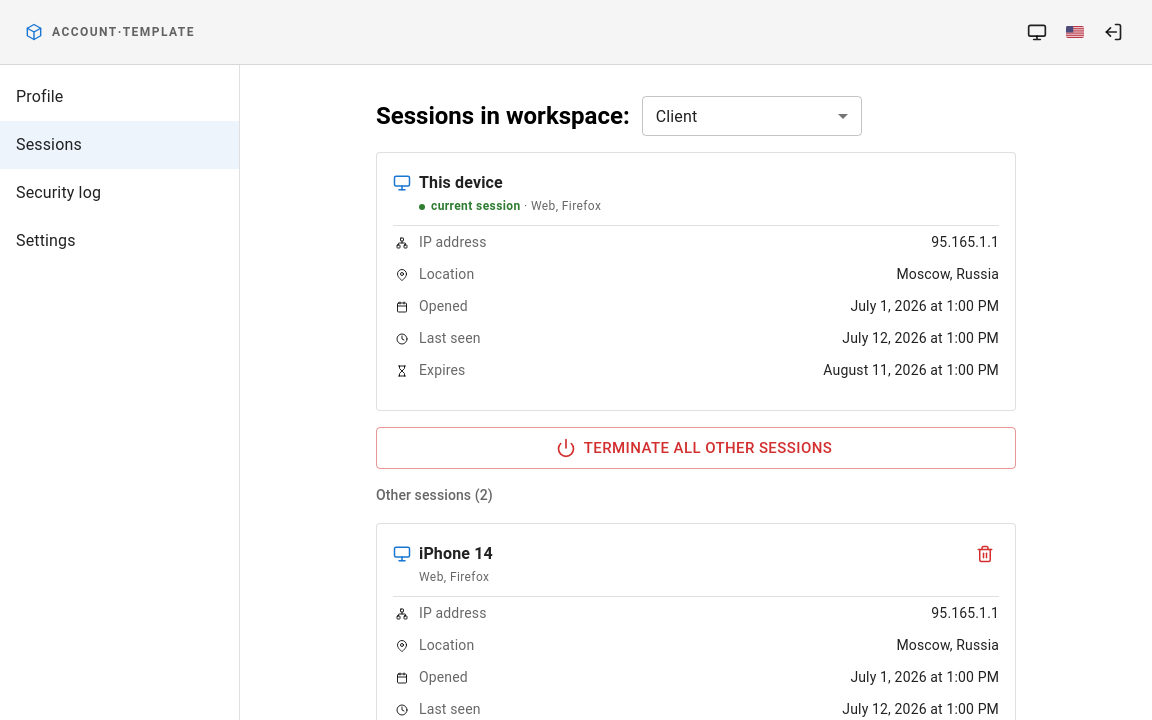
Test case: SessionsPage › changing the realm refetches the list, the combobox stays in place
The width and height of the screenshot is (1152, 720).
expect the heading "This device" is shown: met, box [419,173,503,192]
Press the mouse on the dropdown at (677, 116), box [656,106,697,126]
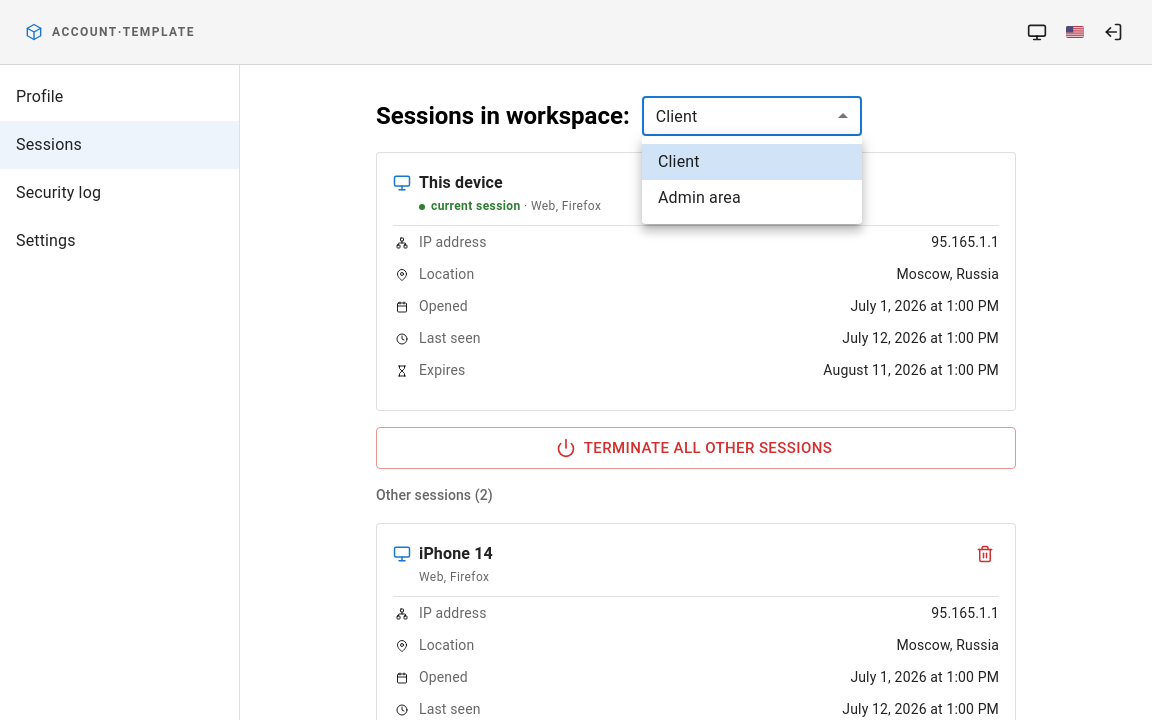
Click the option "Admin area".
click(699, 198)  # box [658,188,741,207]
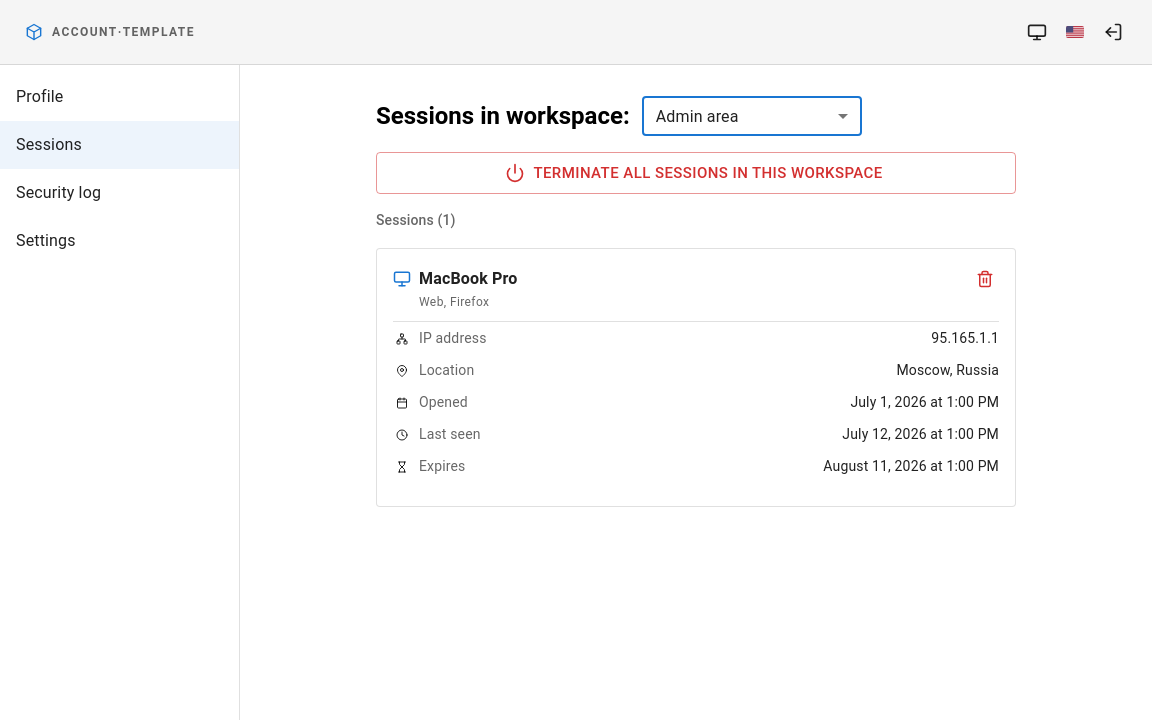
expect the heading "This device" is gone: met
expect the text "current session" is gone: met
expect the button "Terminate all sessions in this workspace" is shown: met, box [376,152,1016,194]
